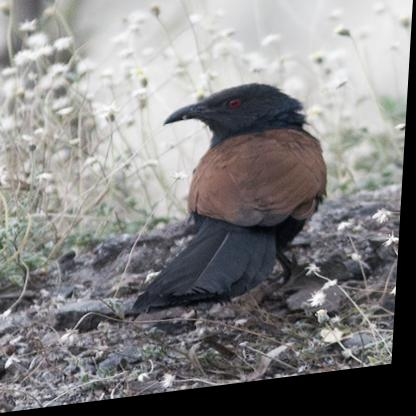Burung: (136, 81, 336, 316)
